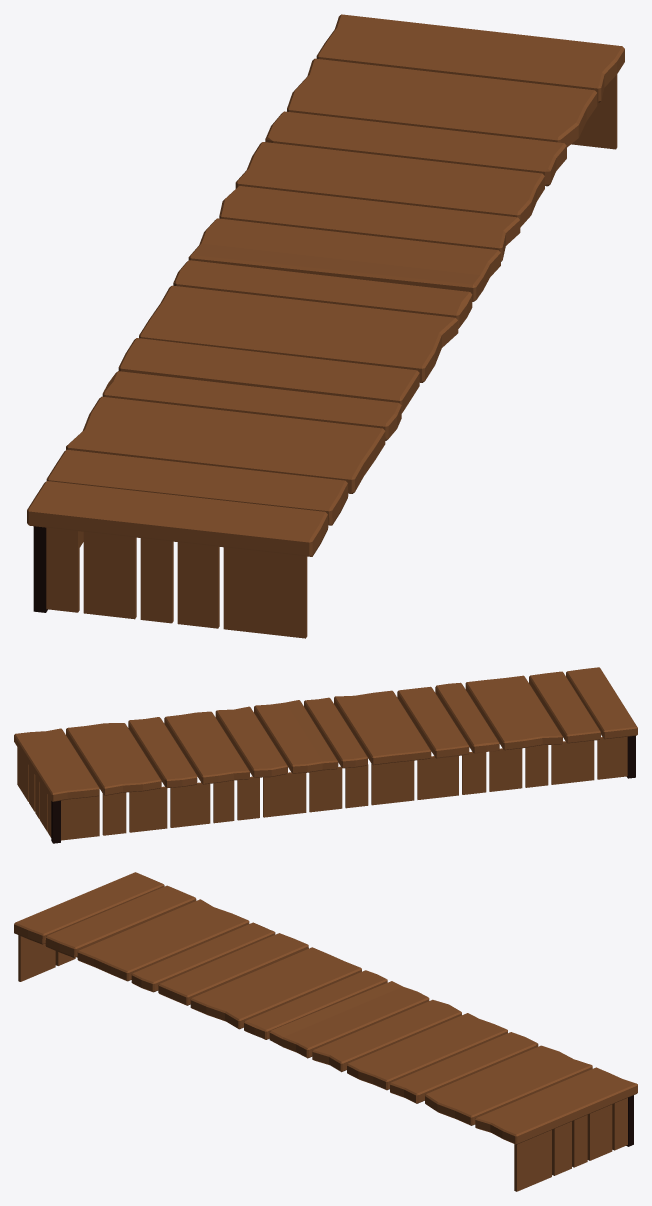
The model's file is ww_small_foundation_b.glb.
3 renders of one model, top to bottom at view 1: azimuth 30°, elevation 25°; view 2: azimuth 150°, elevation 25°; view 3: azimuth 270°, elevation 25°, orthographic. The views are drawn at different scales.
Parts seen in each view (by area): view 1: Small_Foundation_B; view 2: Small_Foundation_B; view 3: Small_Foundation_B.
Boxes of the visible parts, x1,y1,x2,y2 form: Small_Foundation_B: (27, 14, 624, 638); Small_Foundation_B: (14, 667, 637, 843); Small_Foundation_B: (14, 872, 637, 1191).
Bounding box in the file's own units: 6.49 × 0.7107 × 6.5.
